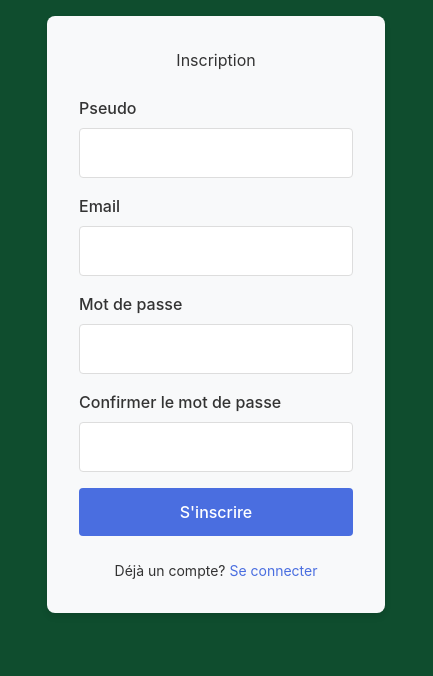
it: Register Component › affiche une erreur si le mot de passe ne contient pas de majuscule
Type "testuser" into the field labelled "Pseudo" at (216, 153), box [79,128,353,178]
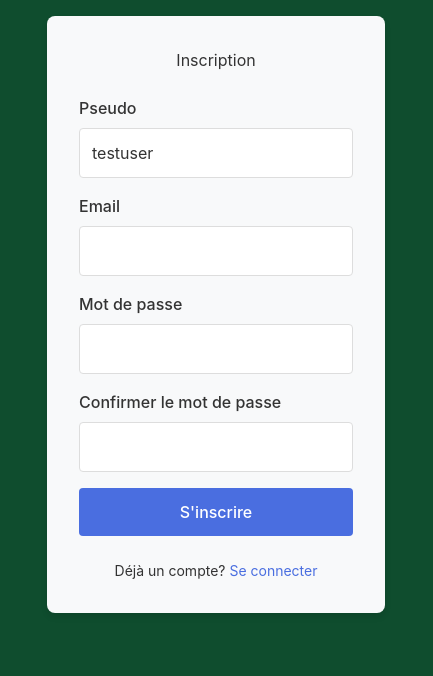
Type "test@example.com" into the field labelled "Email" at (216, 251), box [79,226,353,276]
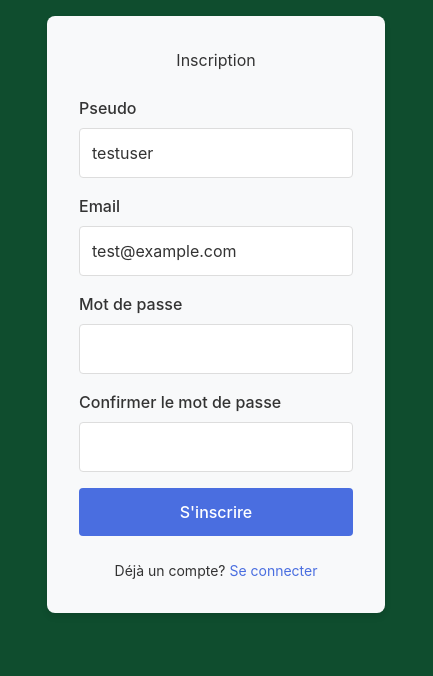
Type "password123" into the password field labelled "Mot de passe" at (216, 349), box [79,324,353,374]
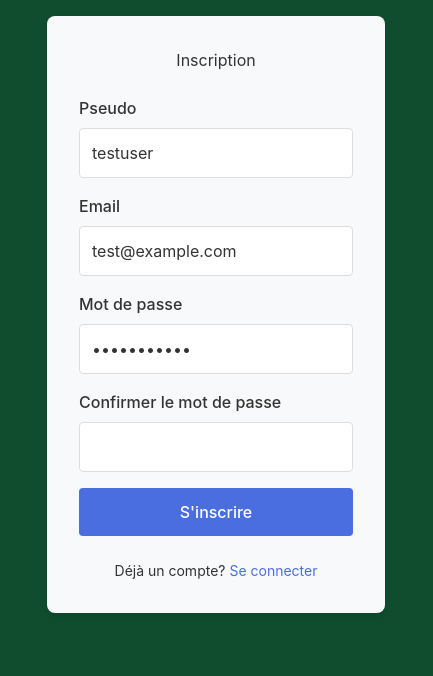
Type "password123" into the password field labelled "Confirmer le mot de passe" at (216, 447), box [79,422,353,472]
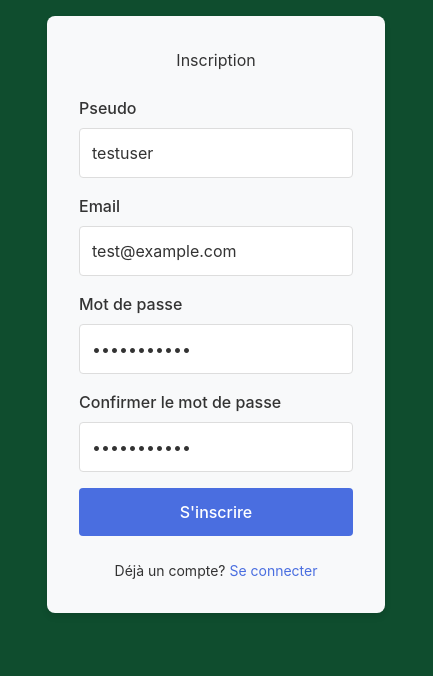
Click the button "S'inscrire" at (216, 512), box [79,488,353,536]
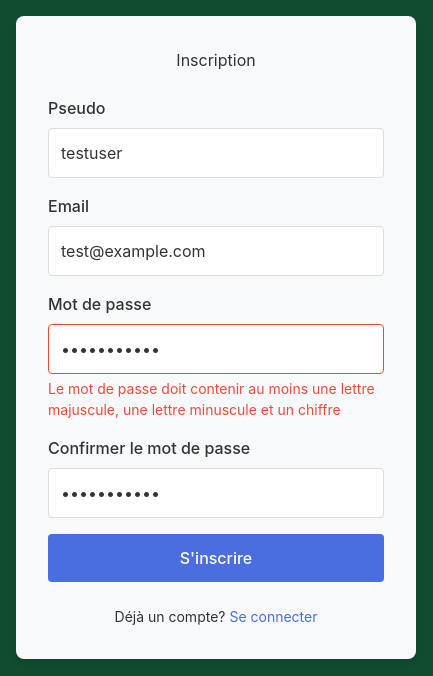
Expected: the text "au moins une lettre majuscule" is shown, [48,380,375,418]
